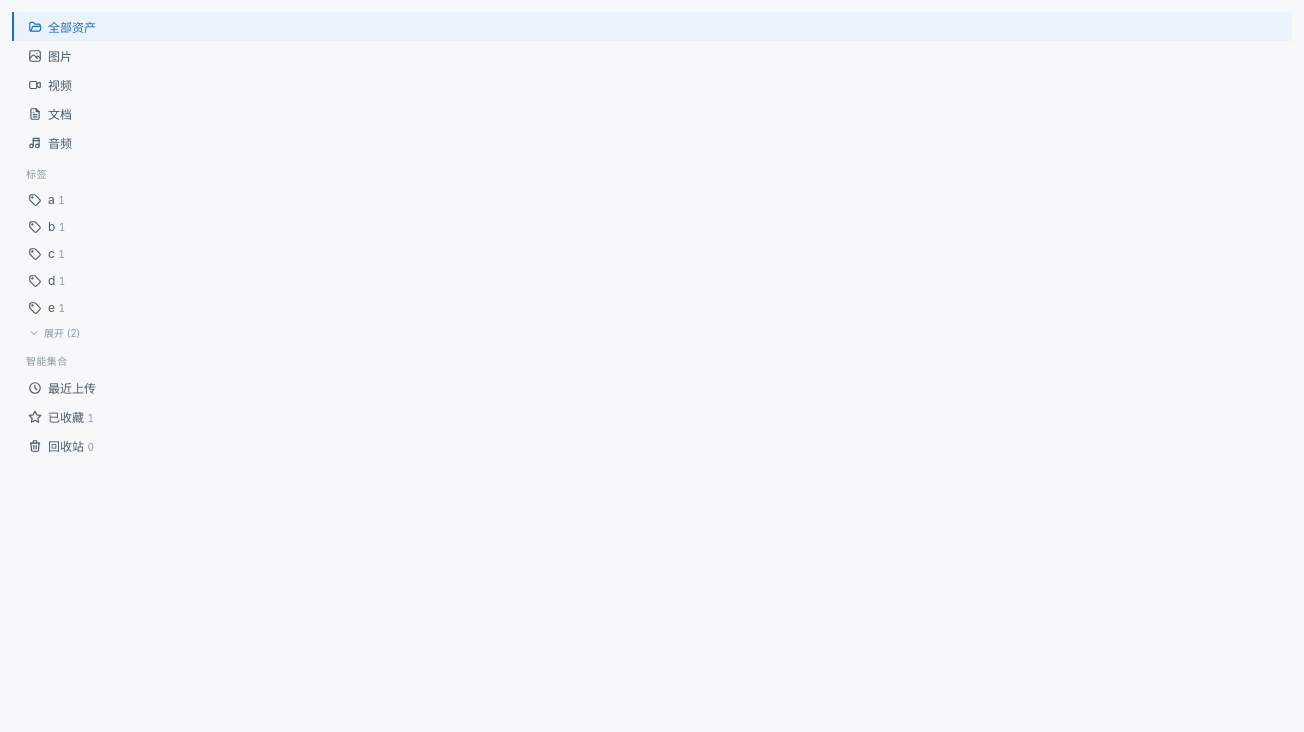
Test: Sidebar tag collapse › expands to show all tags and flips the toggle label on click
Click the button "展开 (2)": [62, 333] box 12,321 -> 1292,344
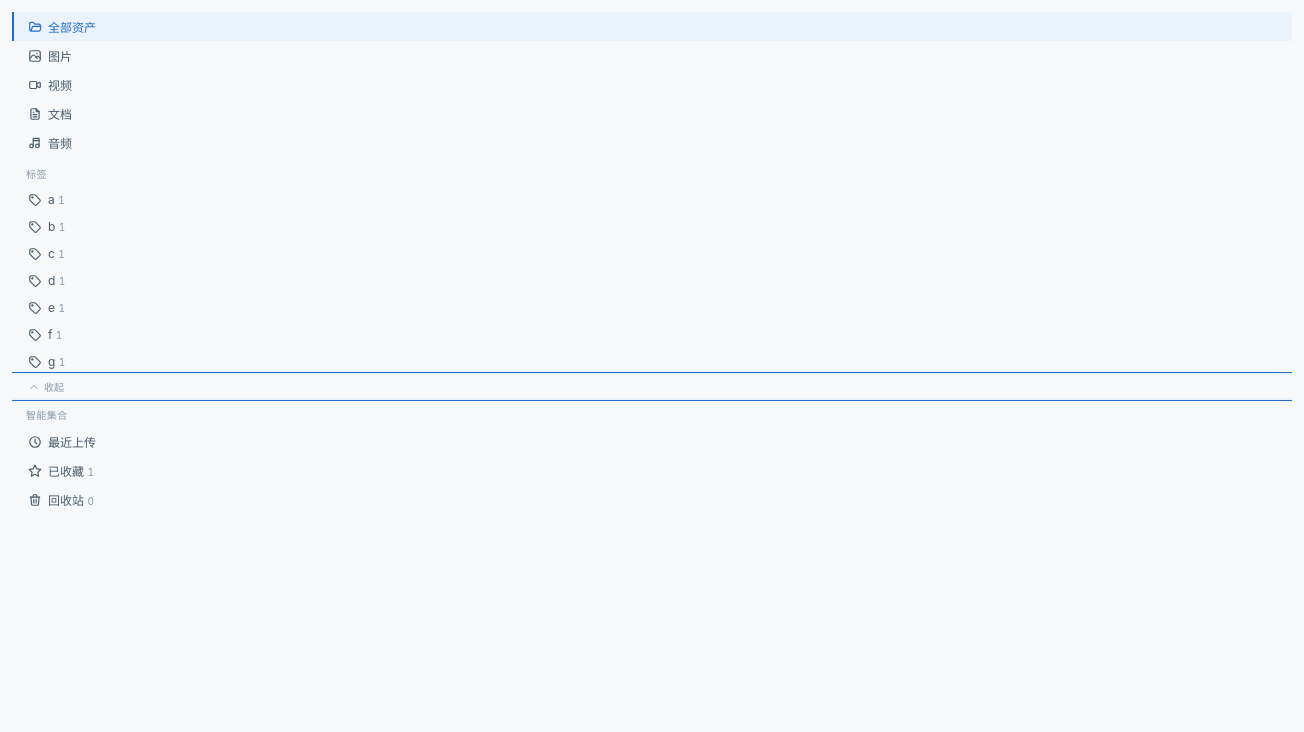
expect the text "f 1" is shown: met, box 48,327 -> 62,342
expect the text "g 1" is shown: met, box 48,354 -> 65,369
expect the button "收起" is expanded: met, box 12,375 -> 1292,398
